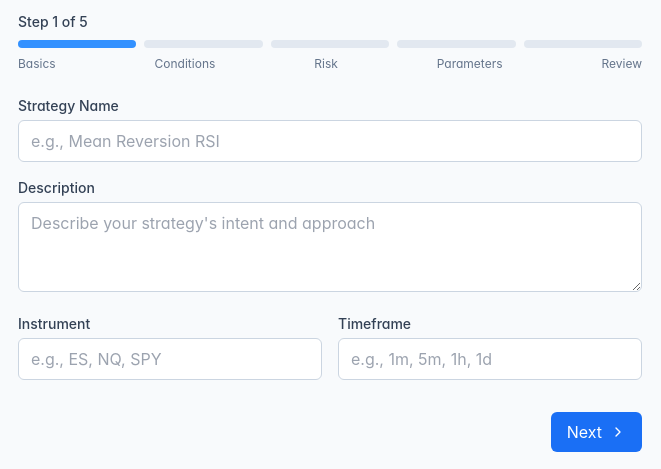
StrategyDraftForm › step navigation › goes back to previous step when back button is clicked
The width and height of the screenshot is (661, 469).
Type "My Strategy" into the field labelled "Strategy Name" at (330, 141), box [18,120,642,162]
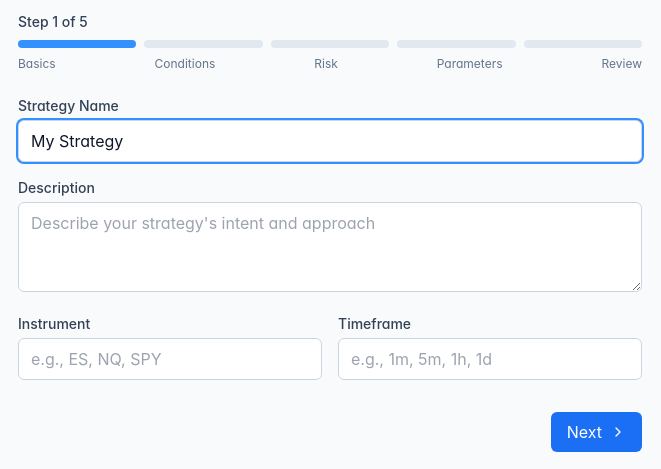
Click the button "Next" at (596, 432), box [551,412,642,452]
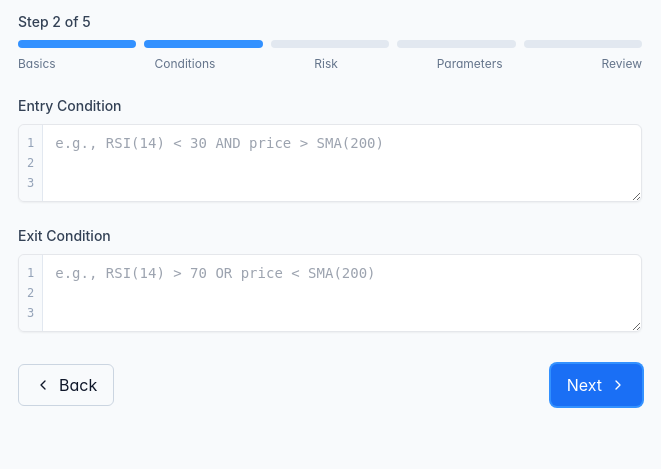
Expected: the button "Back" is shown
Click the button "Back" at (66, 385), box [18,364,114,406]
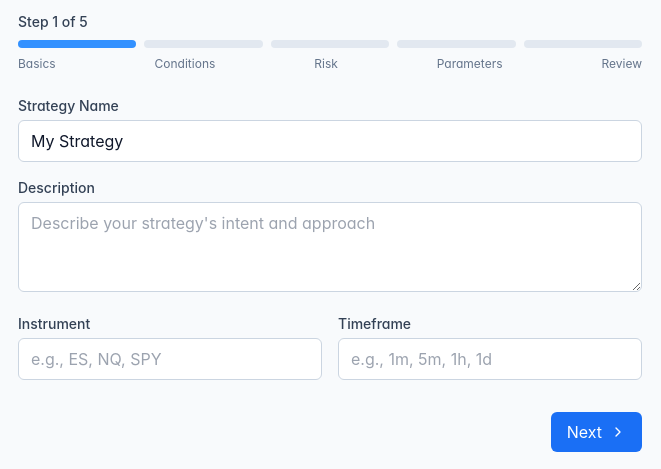
Expected: the field labelled "Strategy Name" is shown, [18,120,642,162]
